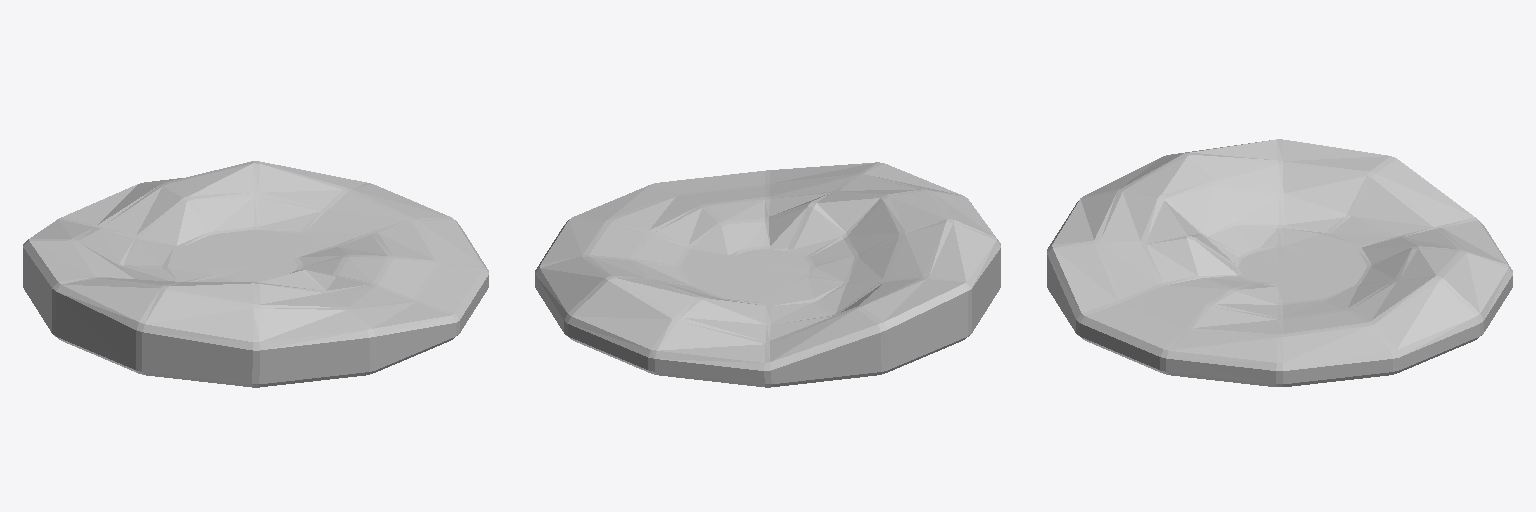
File: plz.obj
3 renders of one model, left to right at view 1: azimuth 30°, elevation 25°; view 2: azimuth 150°, elevation 25°; view 3: azimuth 270°, elevation 25°, orthographic.
Visible parts, largest first — view 1: Object_102; view 2: Object_102; view 3: Object_102.
Boxes of the visible parts, <box> form: Object_102: <box>23,161,488,387</box>; Object_102: <box>535,162,1000,387</box>; Object_102: <box>1047,139,1512,386</box>.
Bounding box in the file's own units: 83.44 × 14.05 × 83.47.